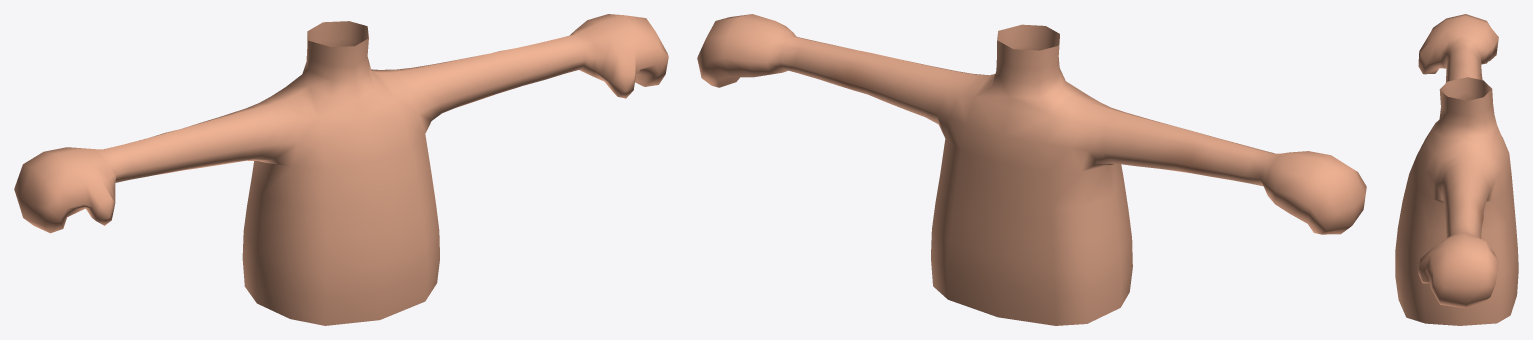
The model's file is Body_Yellow_Top_1.fbx.
3 views of the same model, side by side, from view 1: azimuth 30°, elevation 25°; view 2: azimuth 150°, elevation 25°; view 3: azimuth 270°, elevation 25° (orthographic). The views are drawn at different scales.
Visible parts, largest first — view 1: Body_Yellow_Top_1; view 2: Body_Yellow_Top_1; view 3: Body_Yellow_Top_1.
Part boxes in pixels (x1,y1,x2,y2): Body_Yellow_Top_1: (14, 14, 668, 325); Body_Yellow_Top_1: (697, 14, 1366, 325); Body_Yellow_Top_1: (1395, 14, 1518, 325).
Size of the model in its own units: 130 by 49.84 by 26.46.
